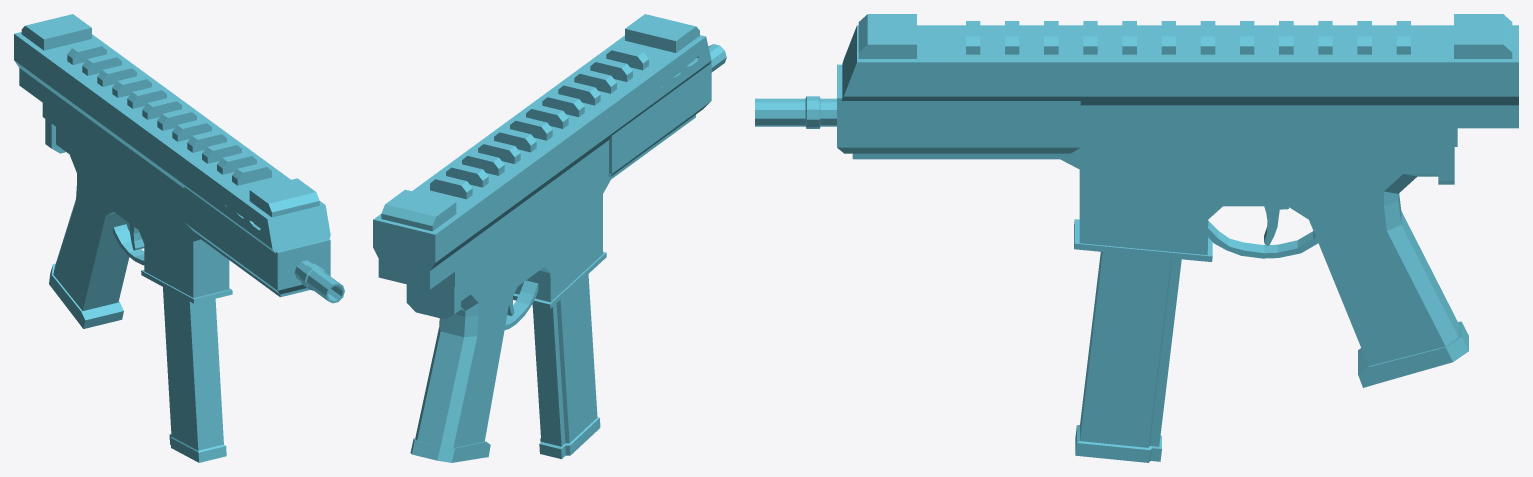
The model's file is wep_smg_01.glb.
3 views of the same model, side by side, from view 1: azimuth 30°, elevation 25°; view 2: azimuth 150°, elevation 25°; view 3: azimuth 270°, elevation 25° (orthographic). The views are drawn at different scales.
Parts seen in each view (by area): view 1: _tmp_smg.obj; view 2: _tmp_smg.obj; view 3: _tmp_smg.obj.
Part boxes in pixels (x1=…): _tmp_smg.obj: x1=14, y1=14, x2=344, y2=462; _tmp_smg.obj: x1=373, y1=14, x2=726, y2=462; _tmp_smg.obj: x1=755, y1=14, x2=1518, y2=462.
Bounding box in the file's own units: 0.069 × 0.3699 × 0.6.
